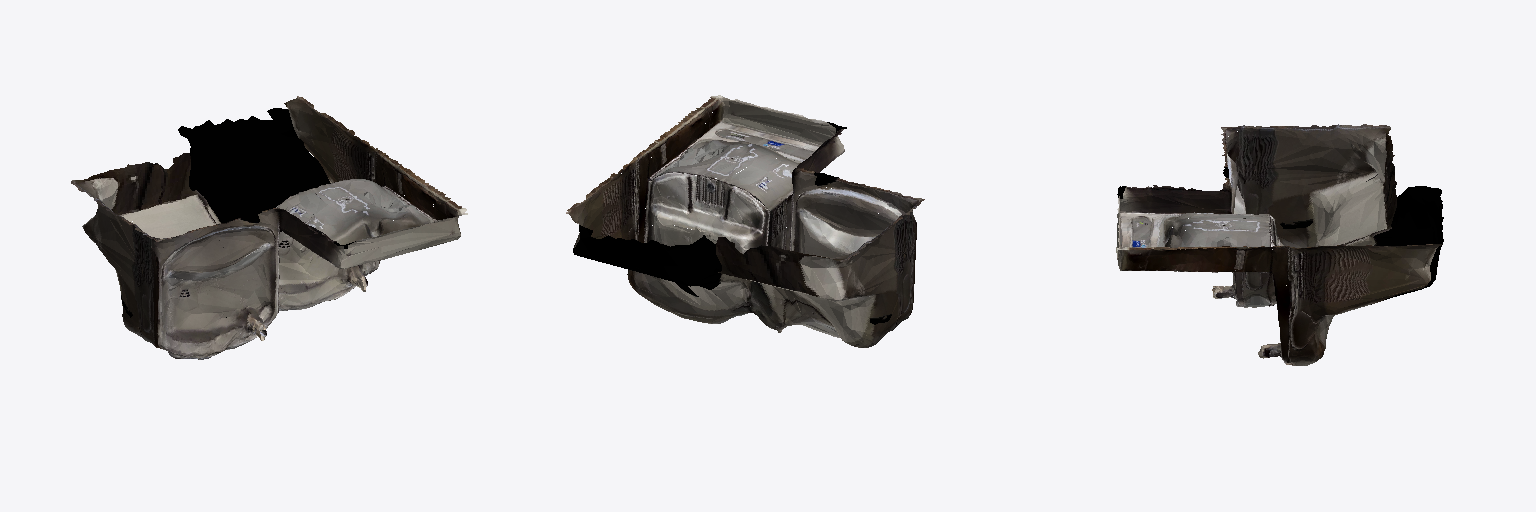
3 renders of one model, left to right at view 1: azimuth 30°, elevation 25°; view 2: azimuth 150°, elevation 25°; view 3: azimuth 270°, elevation 25°, orthographic.
Visible parts, largest first — view 1: poly; view 2: poly; view 3: poly.
Part boxes in pixels (x1,y1,x2,y2): poly: (71, 96, 467, 359); poly: (566, 95, 924, 347); poly: (1116, 124, 1443, 365).
Size of the model in its own units: 0.7897 by 0.4094 by 0.8384.
1 materials, 1 textured.